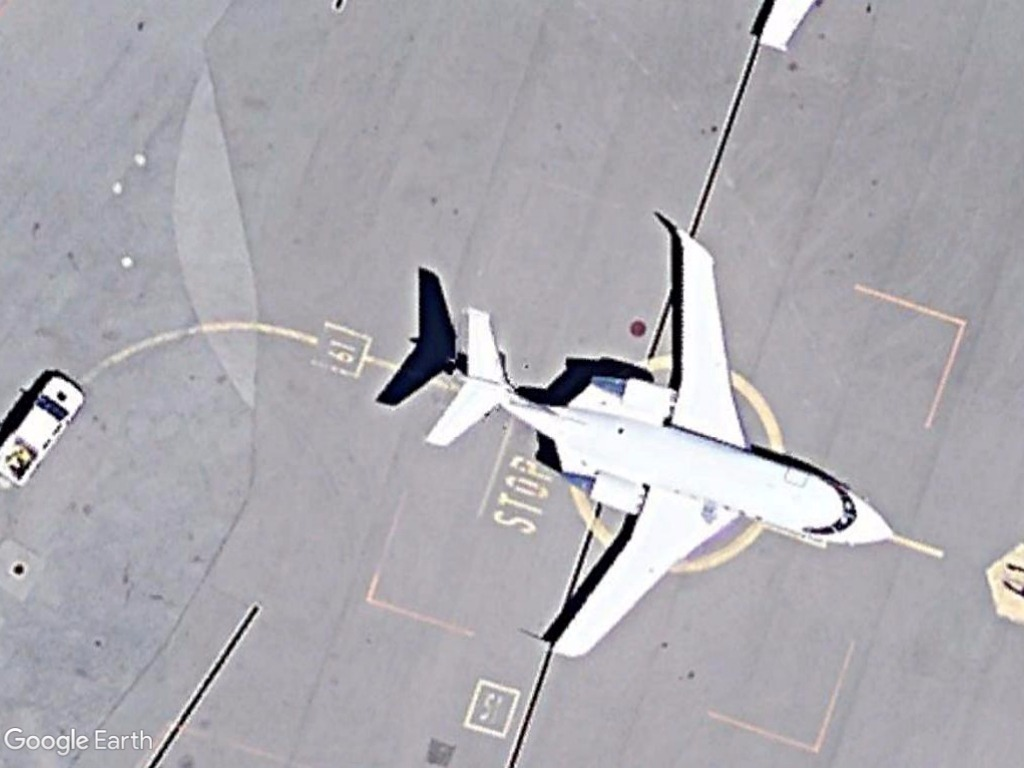chartered: (423, 217, 896, 670)
